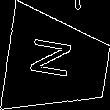N_E: (31, 40, 83, 87)
